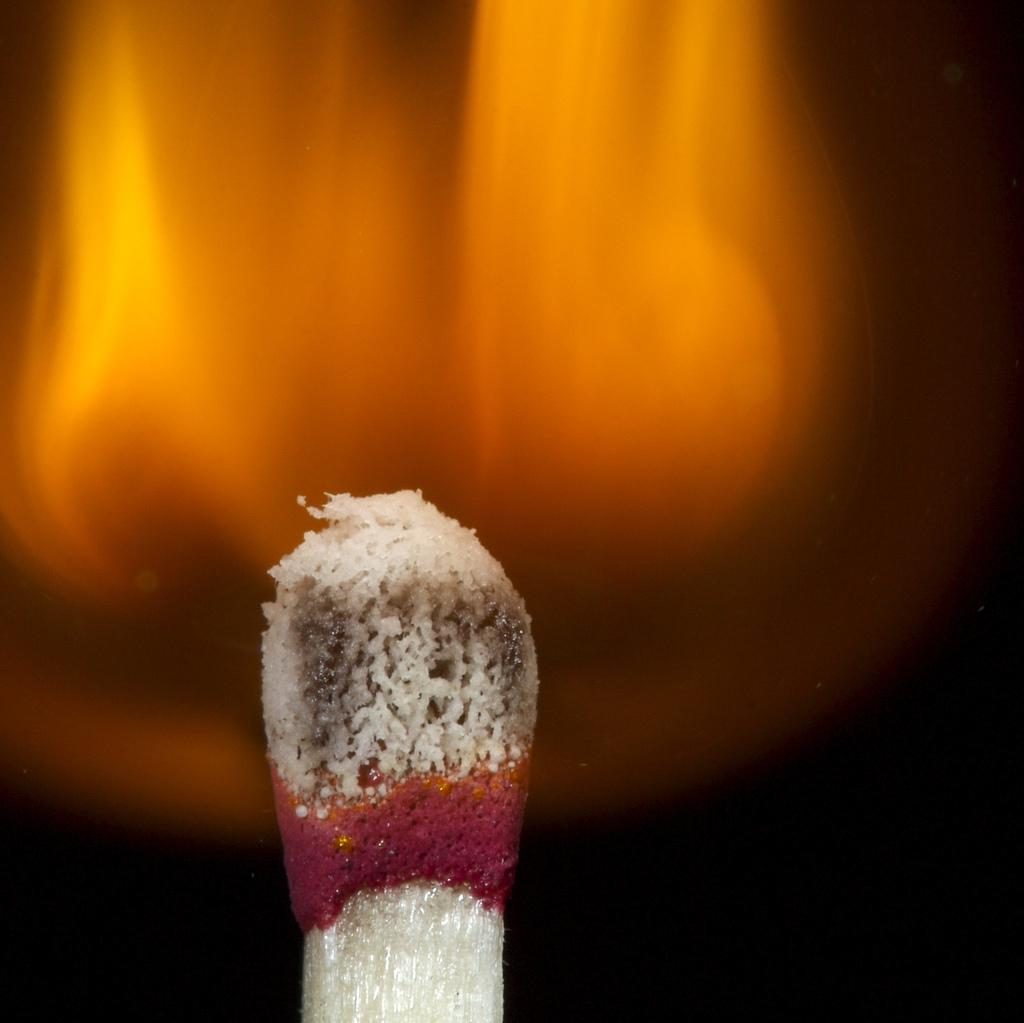fire: (488, 70, 698, 490), (45, 228, 228, 530)
